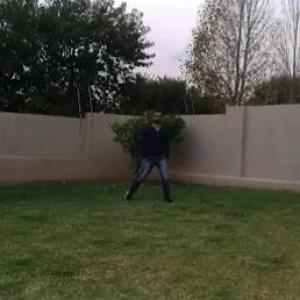follow: (143, 104, 167, 204)
